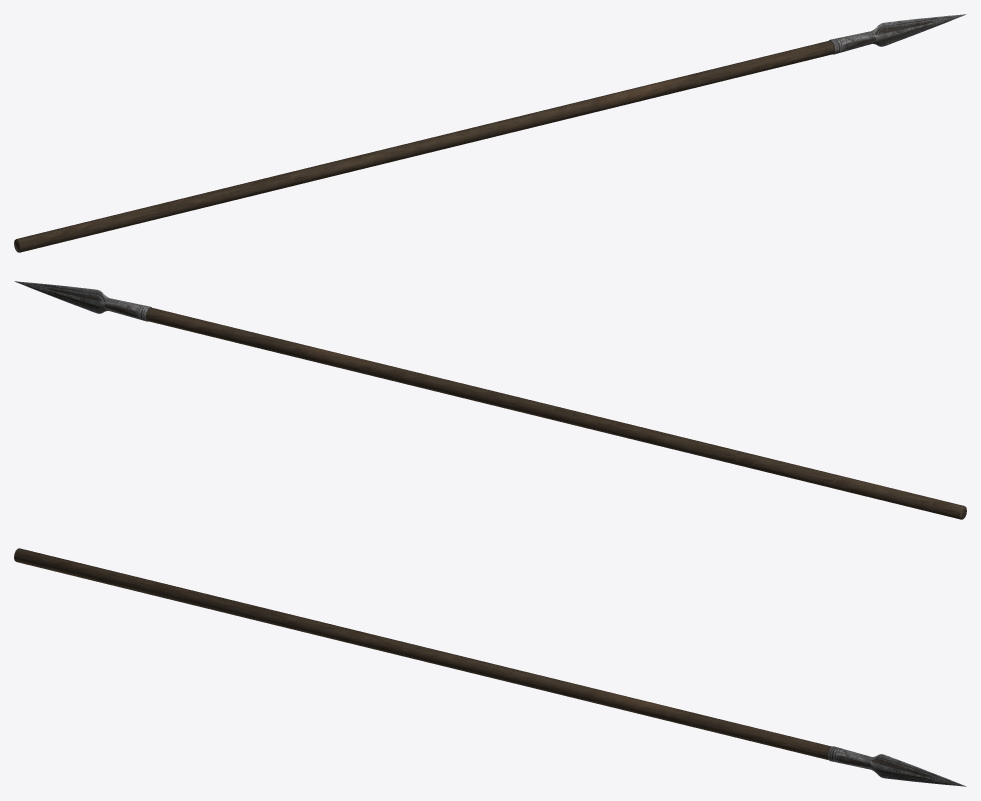
File: spear.glb
The picture shows the model from 3 angles, top to bottom: view 1: azimuth 30°, elevation 25°; view 2: azimuth 150°, elevation 25°; view 3: azimuth 330°, elevation 25°; orthographic projection.
Visible parts, largest first — view 1: kopie_lp002__0; view 2: kopie_lp002__0; view 3: kopie_lp002__0.
Boxes of the visible parts, bbox=[...] form: kopie_lp002__0: bbox=[14, 14, 966, 252]; kopie_lp002__0: bbox=[14, 281, 966, 519]; kopie_lp002__0: bbox=[14, 548, 966, 786].
Bounding box in the file's own units: 3.26 × 0.0779 × 0.0445.
1 material, 1 textured.
